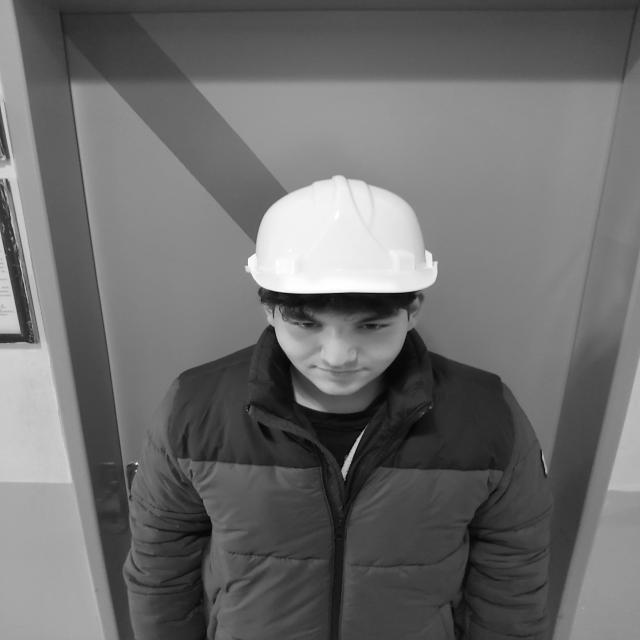safety_helmet: (245, 177, 439, 298)
